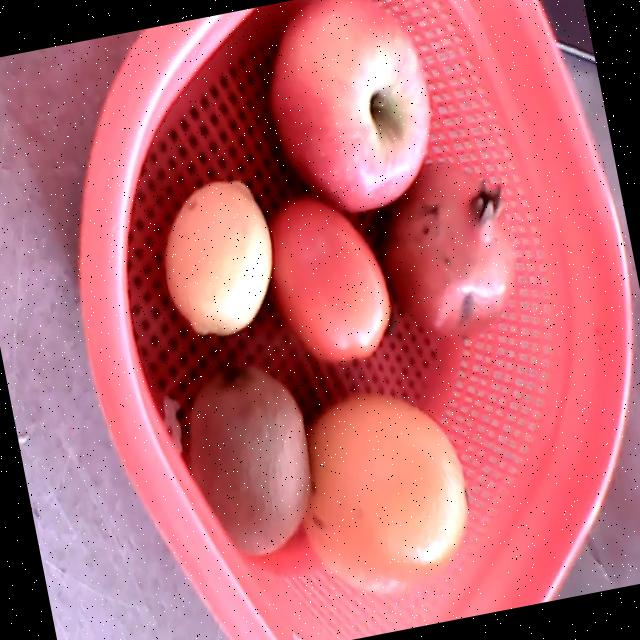apple: (267, 0, 430, 215)
kiwi: (190, 361, 311, 555)
lemon: (164, 180, 272, 336)
orange: (302, 393, 468, 597)
pomegranate: (386, 159, 519, 341)
tomato: (269, 196, 390, 365)
